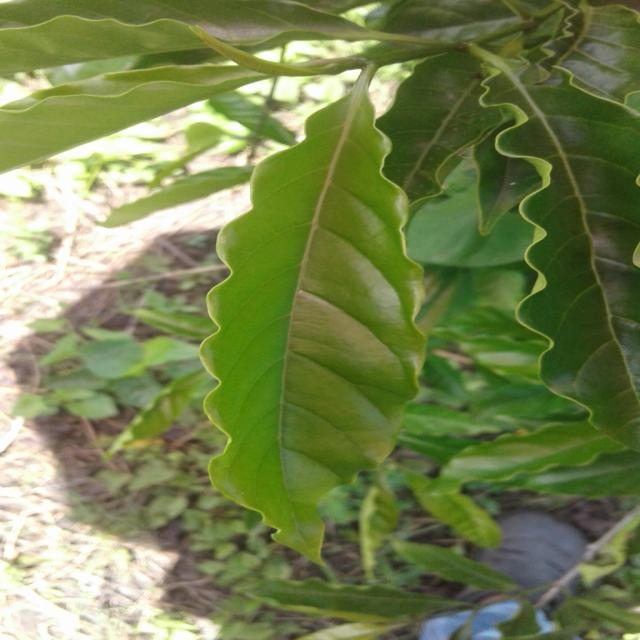Sanas: (199, 85, 427, 559)
